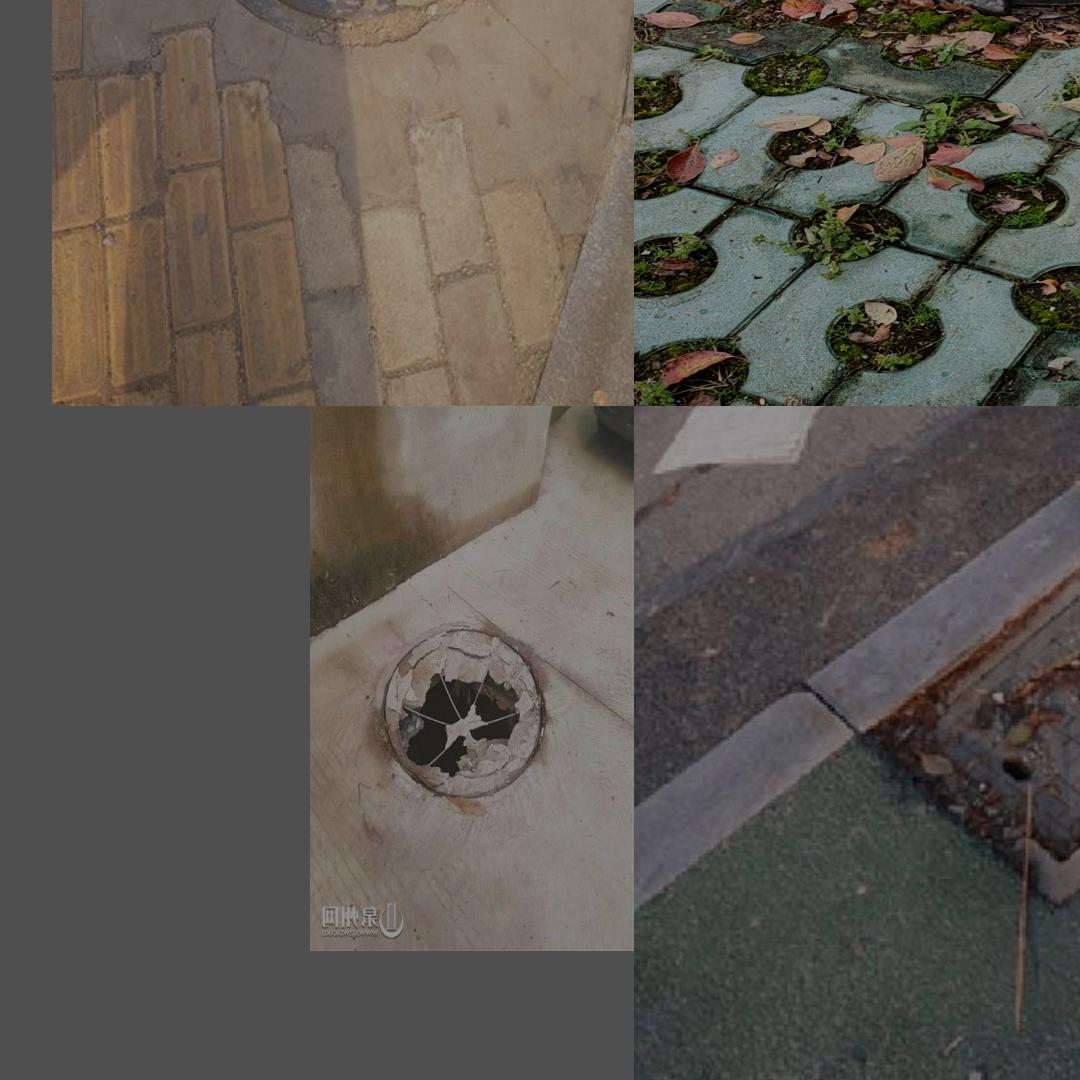broke: (855, 487, 1080, 903), (364, 609, 557, 814), (160, 0, 540, 69), (763, 0, 1080, 17)
